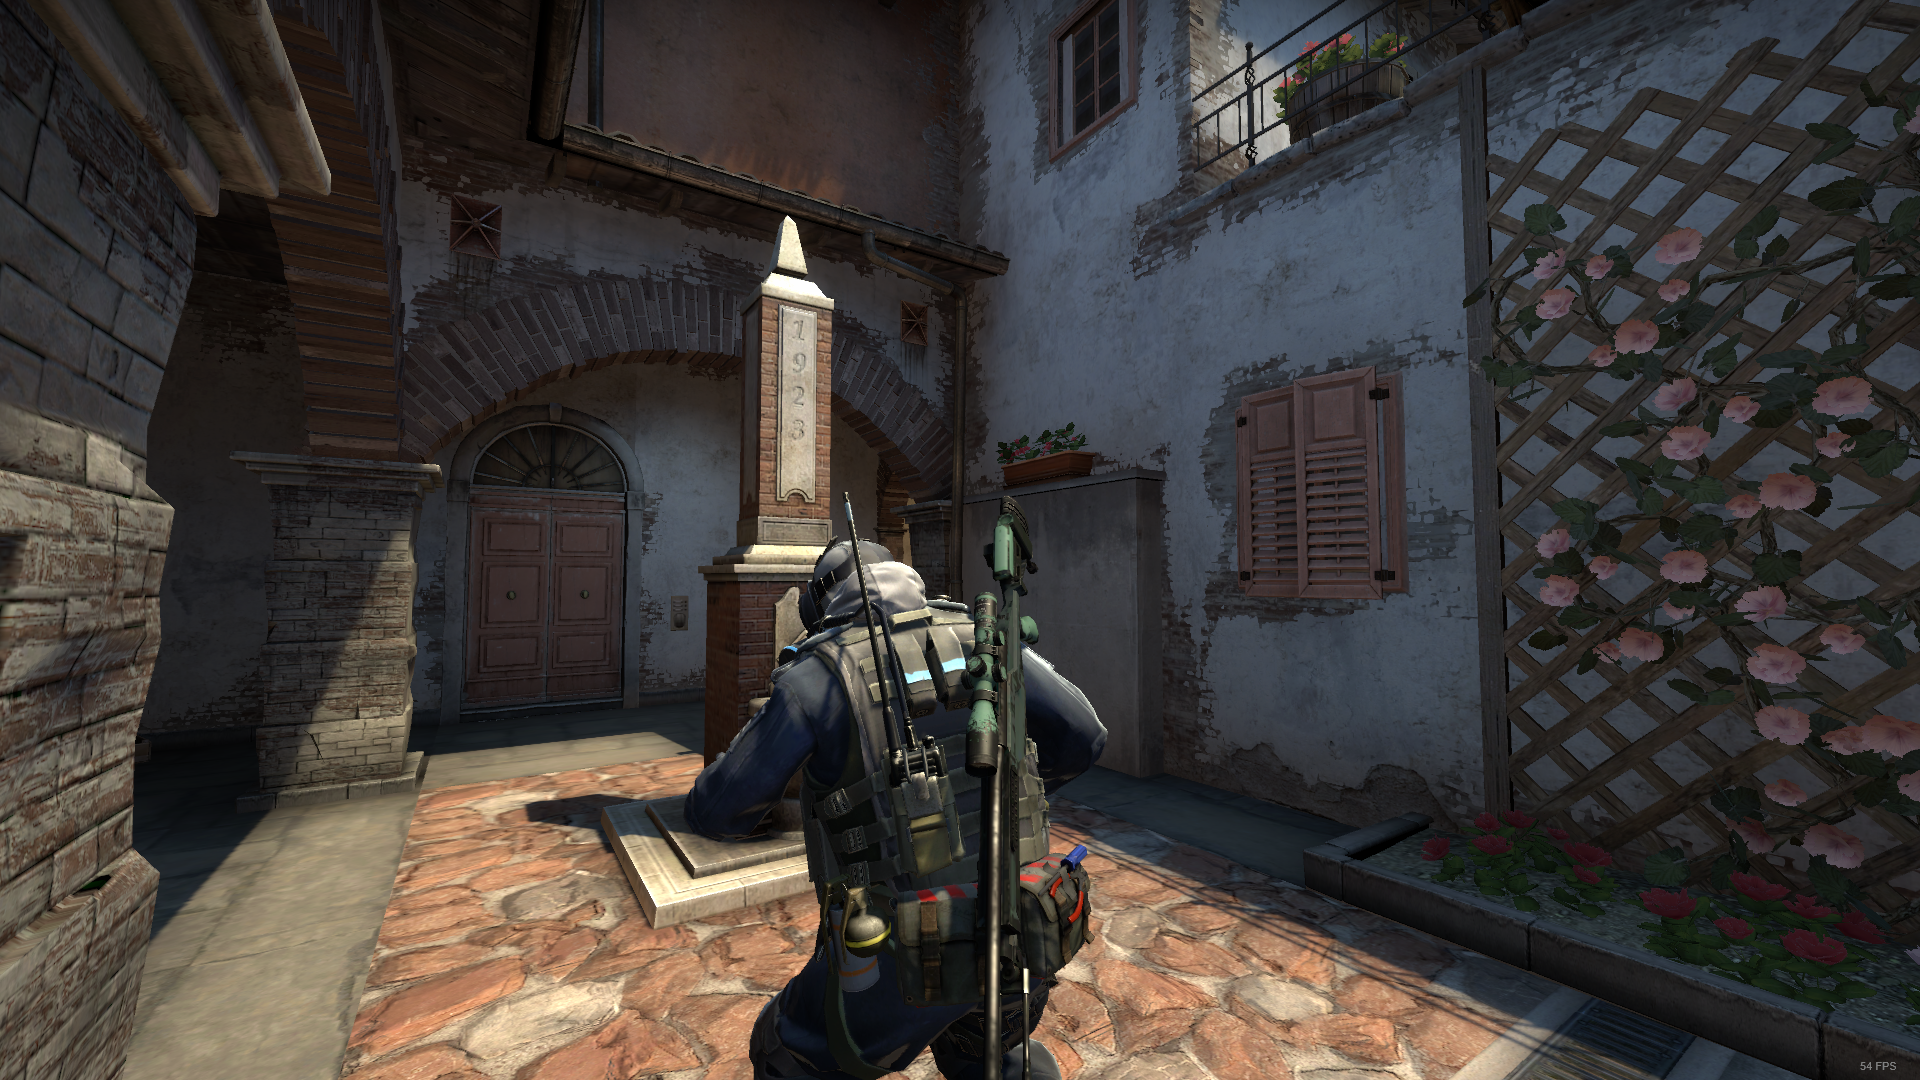ct: (704, 535, 1109, 1080)
